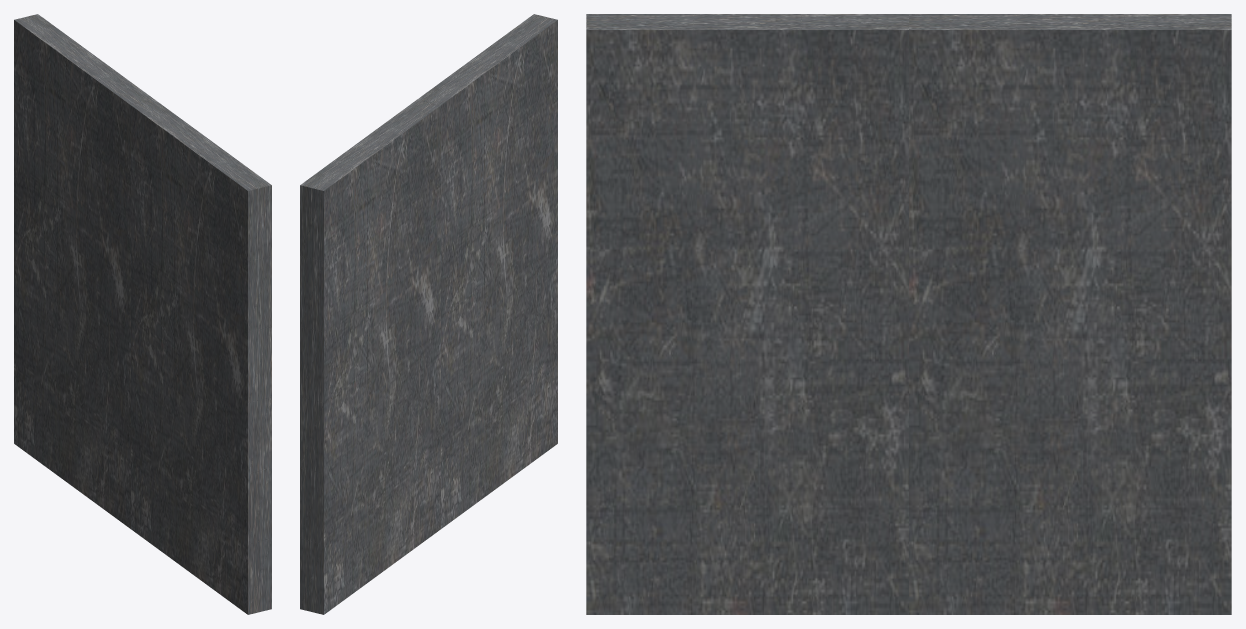
Rendered from door-handles.fbx.
3 views of the same model, side by side, from view 1: azimuth 30°, elevation 25°; view 2: azimuth 150°, elevation 25°; view 3: azimuth 270°, elevation 25° (orthographic). The views are drawn at different scales.
Visible parts, largest first — view 1: door2left, door2right; view 2: door2right, door2left; view 3: door2left, door2right.
Part boxes in pixels (bbox=[...]): door2left: bbox=[131, 99, 271, 614]; door2right: bbox=[14, 14, 154, 528]; door2right: bbox=[300, 99, 440, 614]; door2left: bbox=[417, 14, 557, 528]; door2left: bbox=[586, 14, 908, 614]; door2right: bbox=[909, 14, 1231, 614].
Size of the model in its own units: 3.53 by 60 by 60.01.
Materials: 1 (1 with a texture image).
